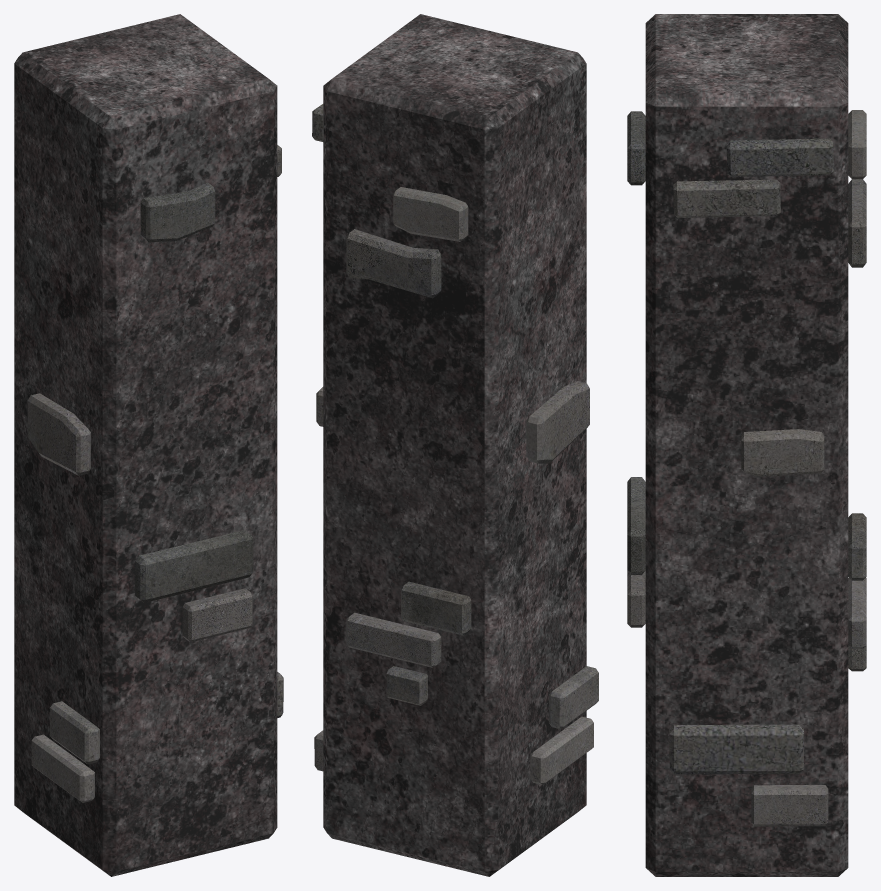
Rendered from Pillar_wall1.fbx.
The picture shows the model from 3 angles, left to right: view 1: azimuth 30°, elevation 25°; view 2: azimuth 150°, elevation 25°; view 3: azimuth 270°, elevation 25°; orthographic projection. The views are drawn at different scales.
Visible parts, largest first — view 1: Pillar_wall1; view 2: Pillar_wall1; view 3: Pillar_wall1.
Boxes of the visible parts, bbox=[...] form: Pillar_wall1: bbox=[14, 14, 283, 876]; Pillar_wall1: bbox=[312, 14, 598, 876]; Pillar_wall1: bbox=[627, 14, 866, 876].
Size of the model in its own units: 0.8468 by 3 by 0.8293.
1 material, 1 textured.
